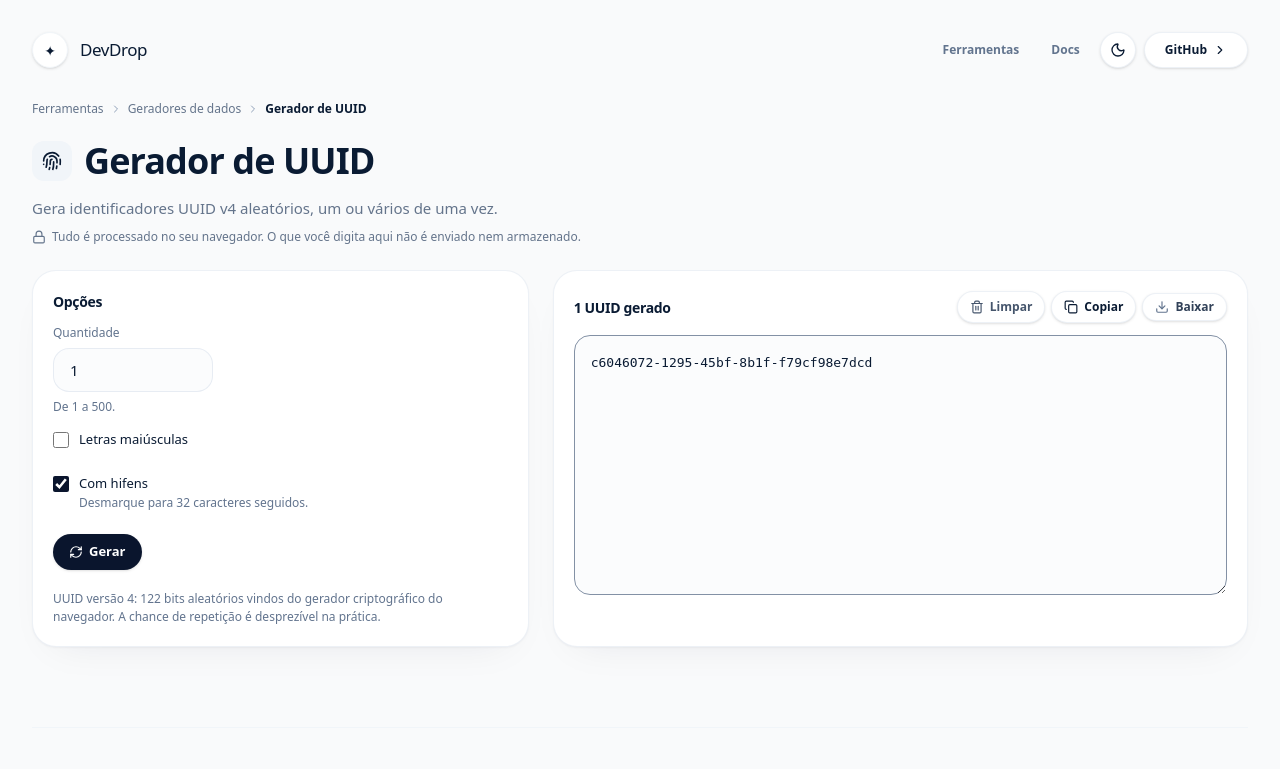
Scenario: generators › generates UUIDs in the requested quantity and format
The width and height of the screenshot is (1280, 769).
Replace the text in the field labelled "Quantidade" with "25": point(133, 370) [53,348,213,392]
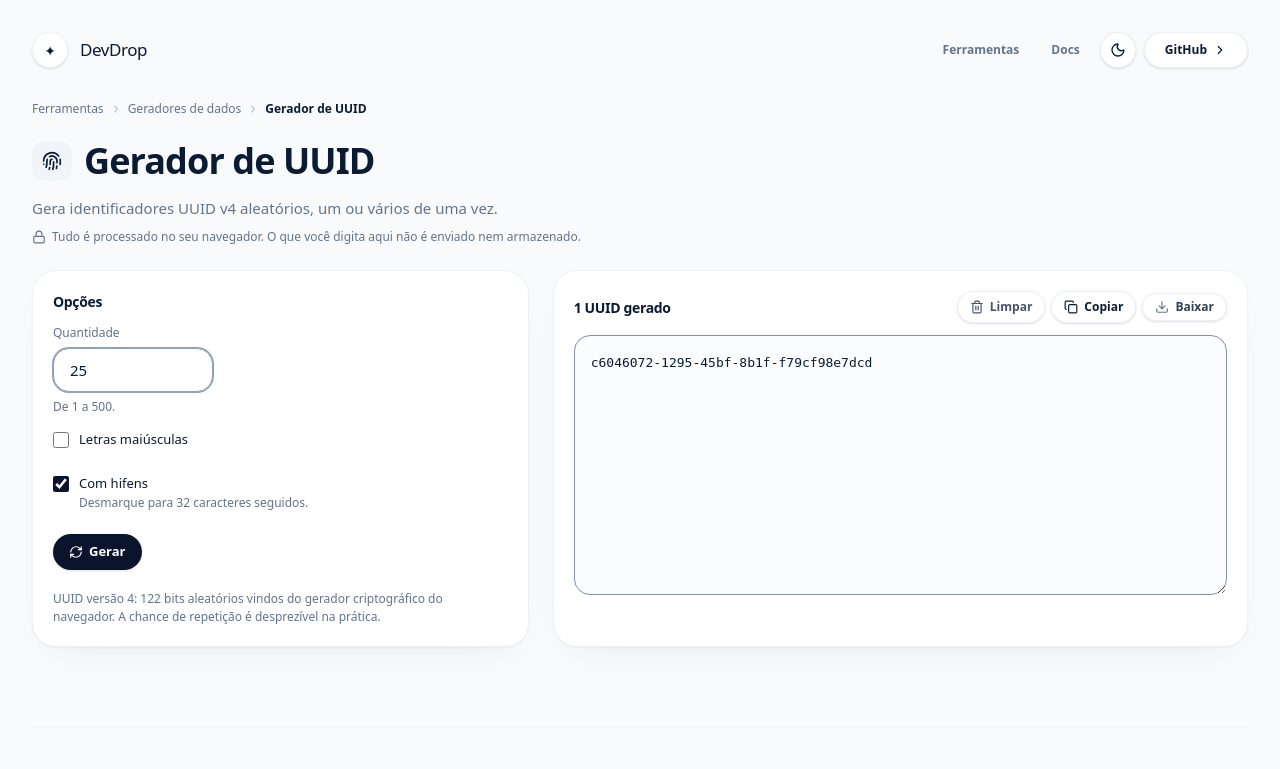
Click the button "Gerar": point(97, 552) [53,534,142,570]
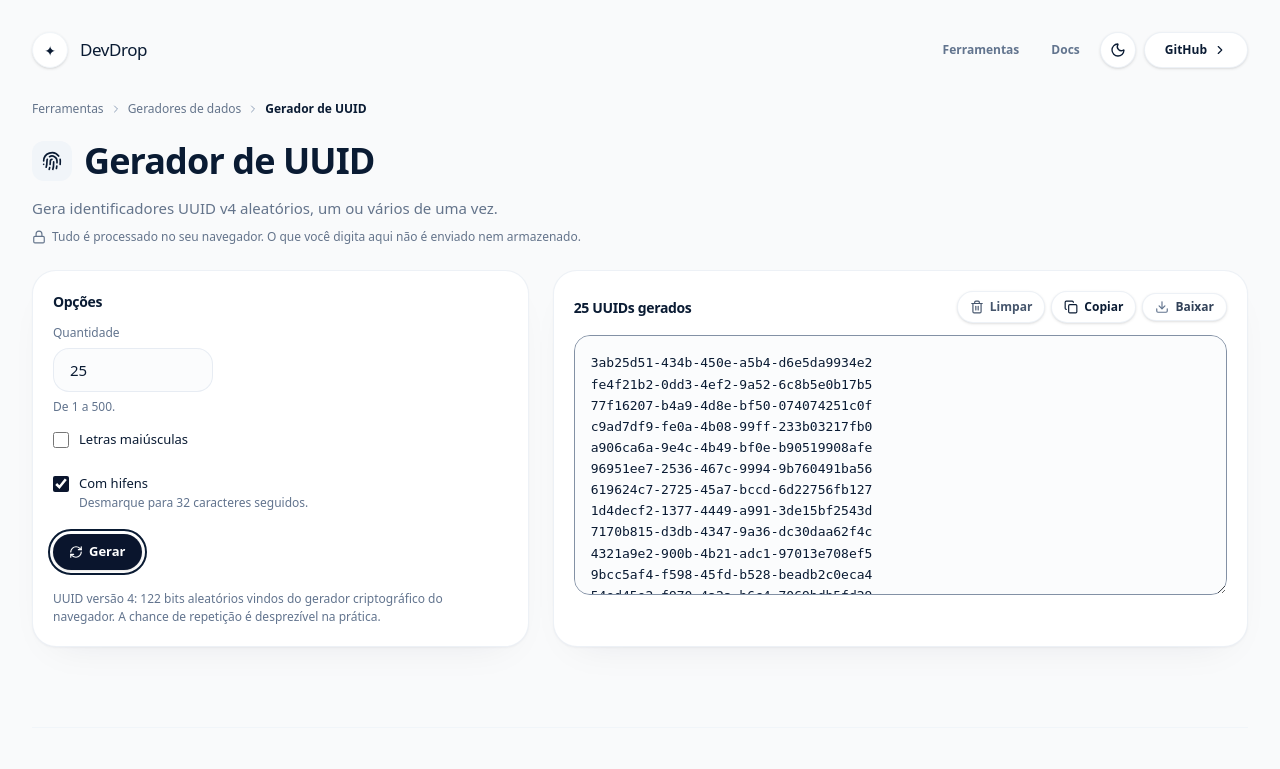
Click the checkbox labelled "Com hifens Desmarque para 32 caracteres seguidos.": point(61, 484) [53,476,69,492]
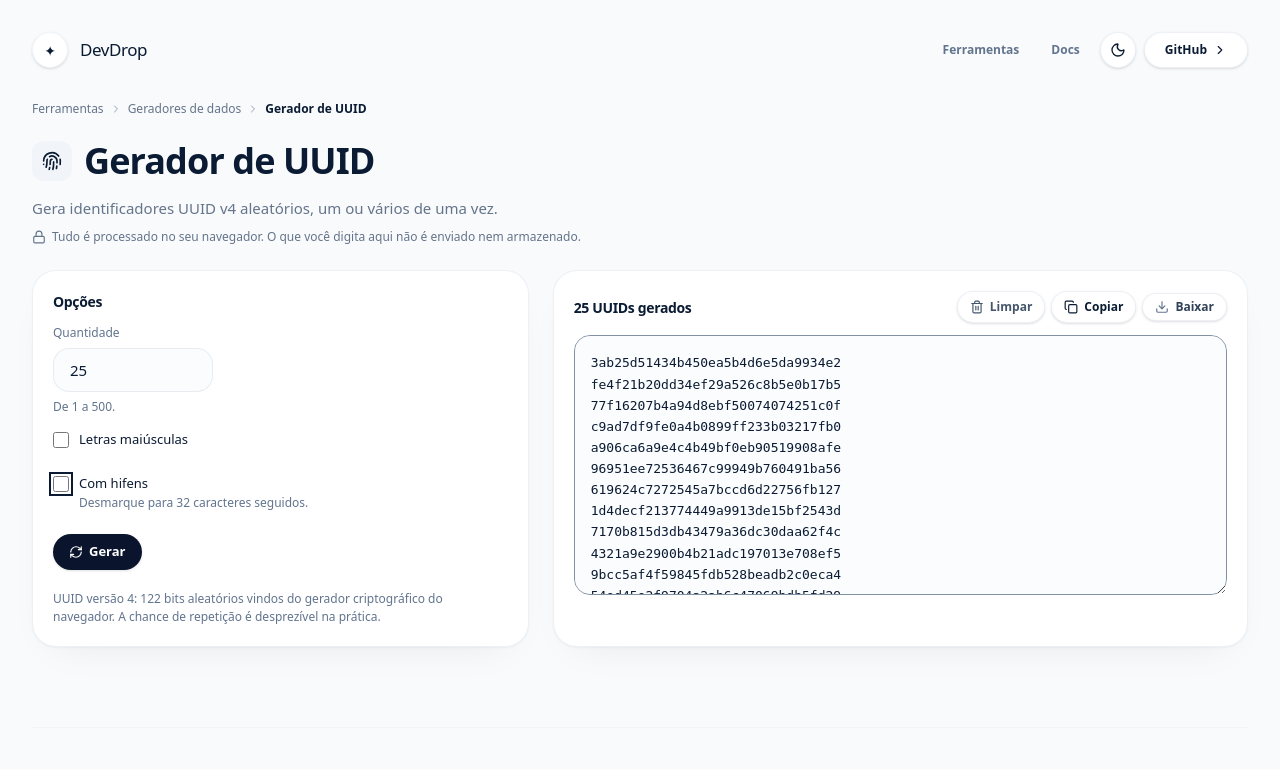
Replace the text in the field labelled "Quantidade" with "9999": point(133, 370) [53,348,213,392]
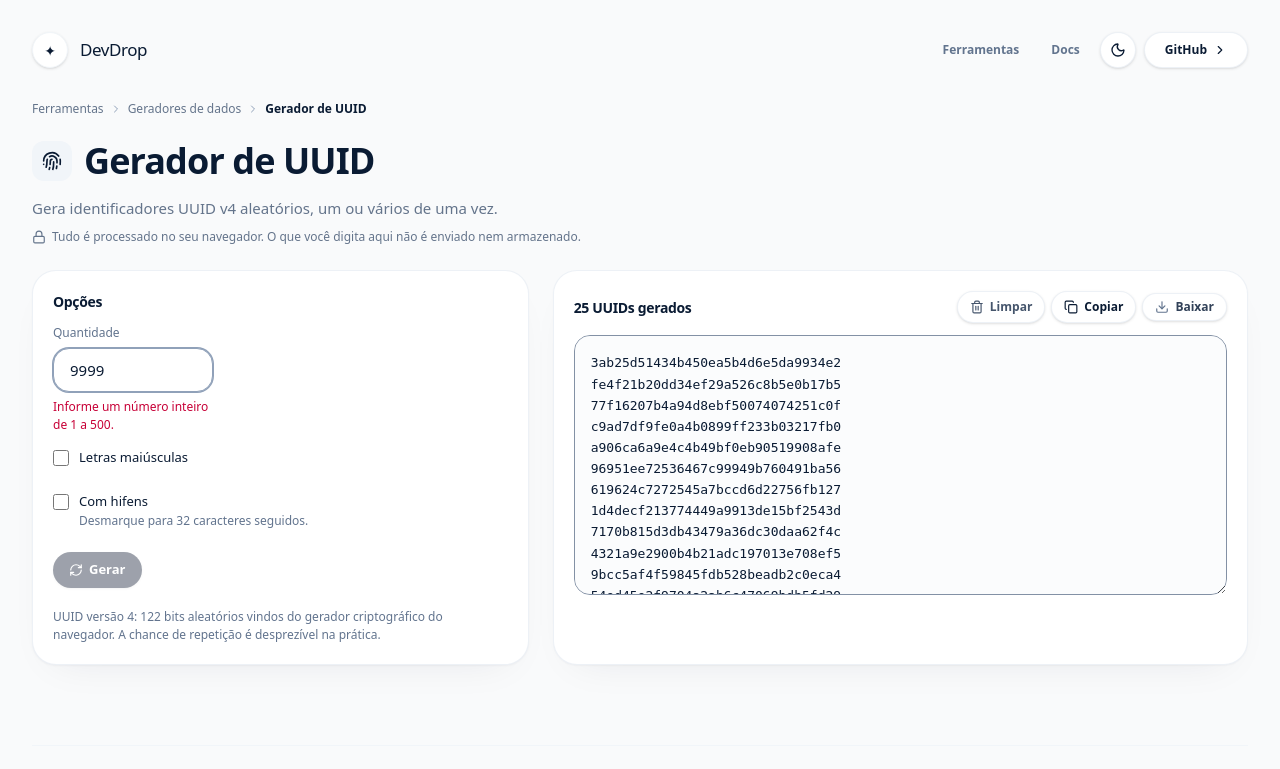
Check: the message shows "1 a 500", box [53,398,208,433]
Check: the button "Gerar" is disabled, box [53,552,142,588]
Click the button "Limpar": point(1001, 307) [957,291,1045,323]
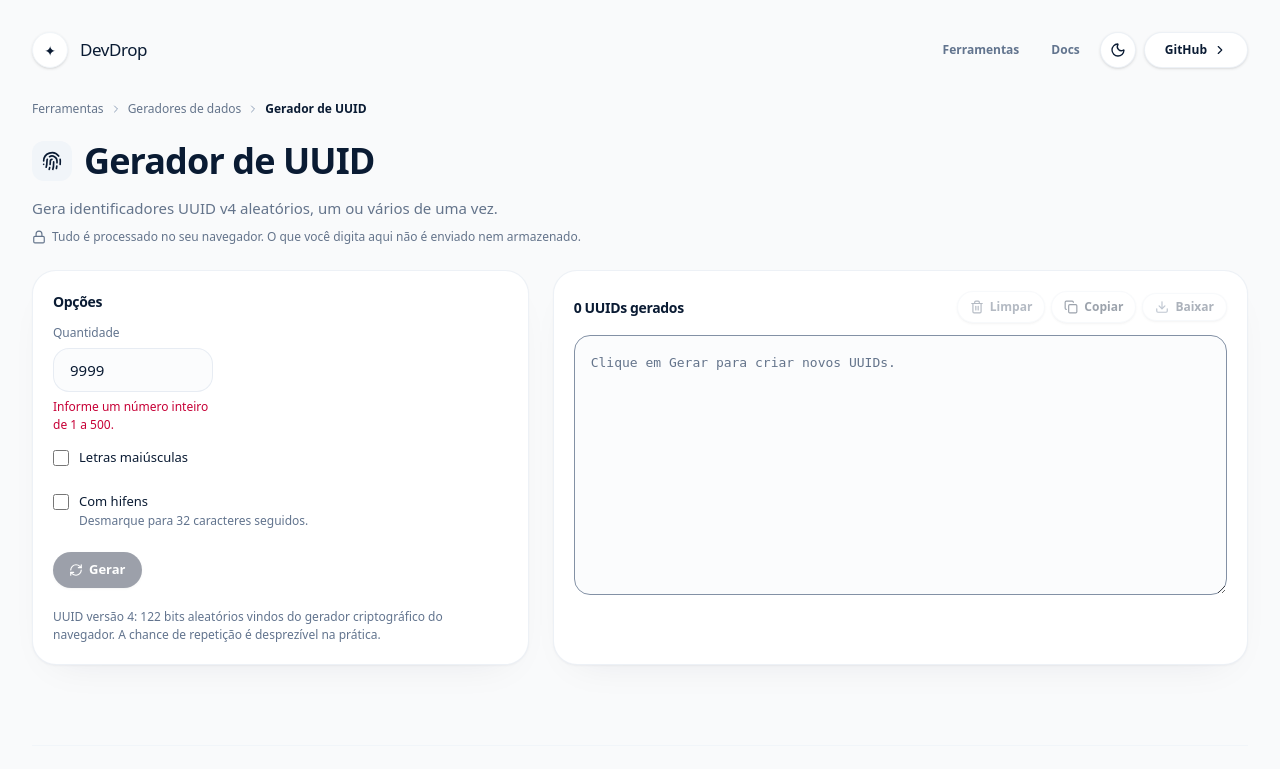
Check: the text box with id "uuid-output" is empty, box [574,335,1227,595]
